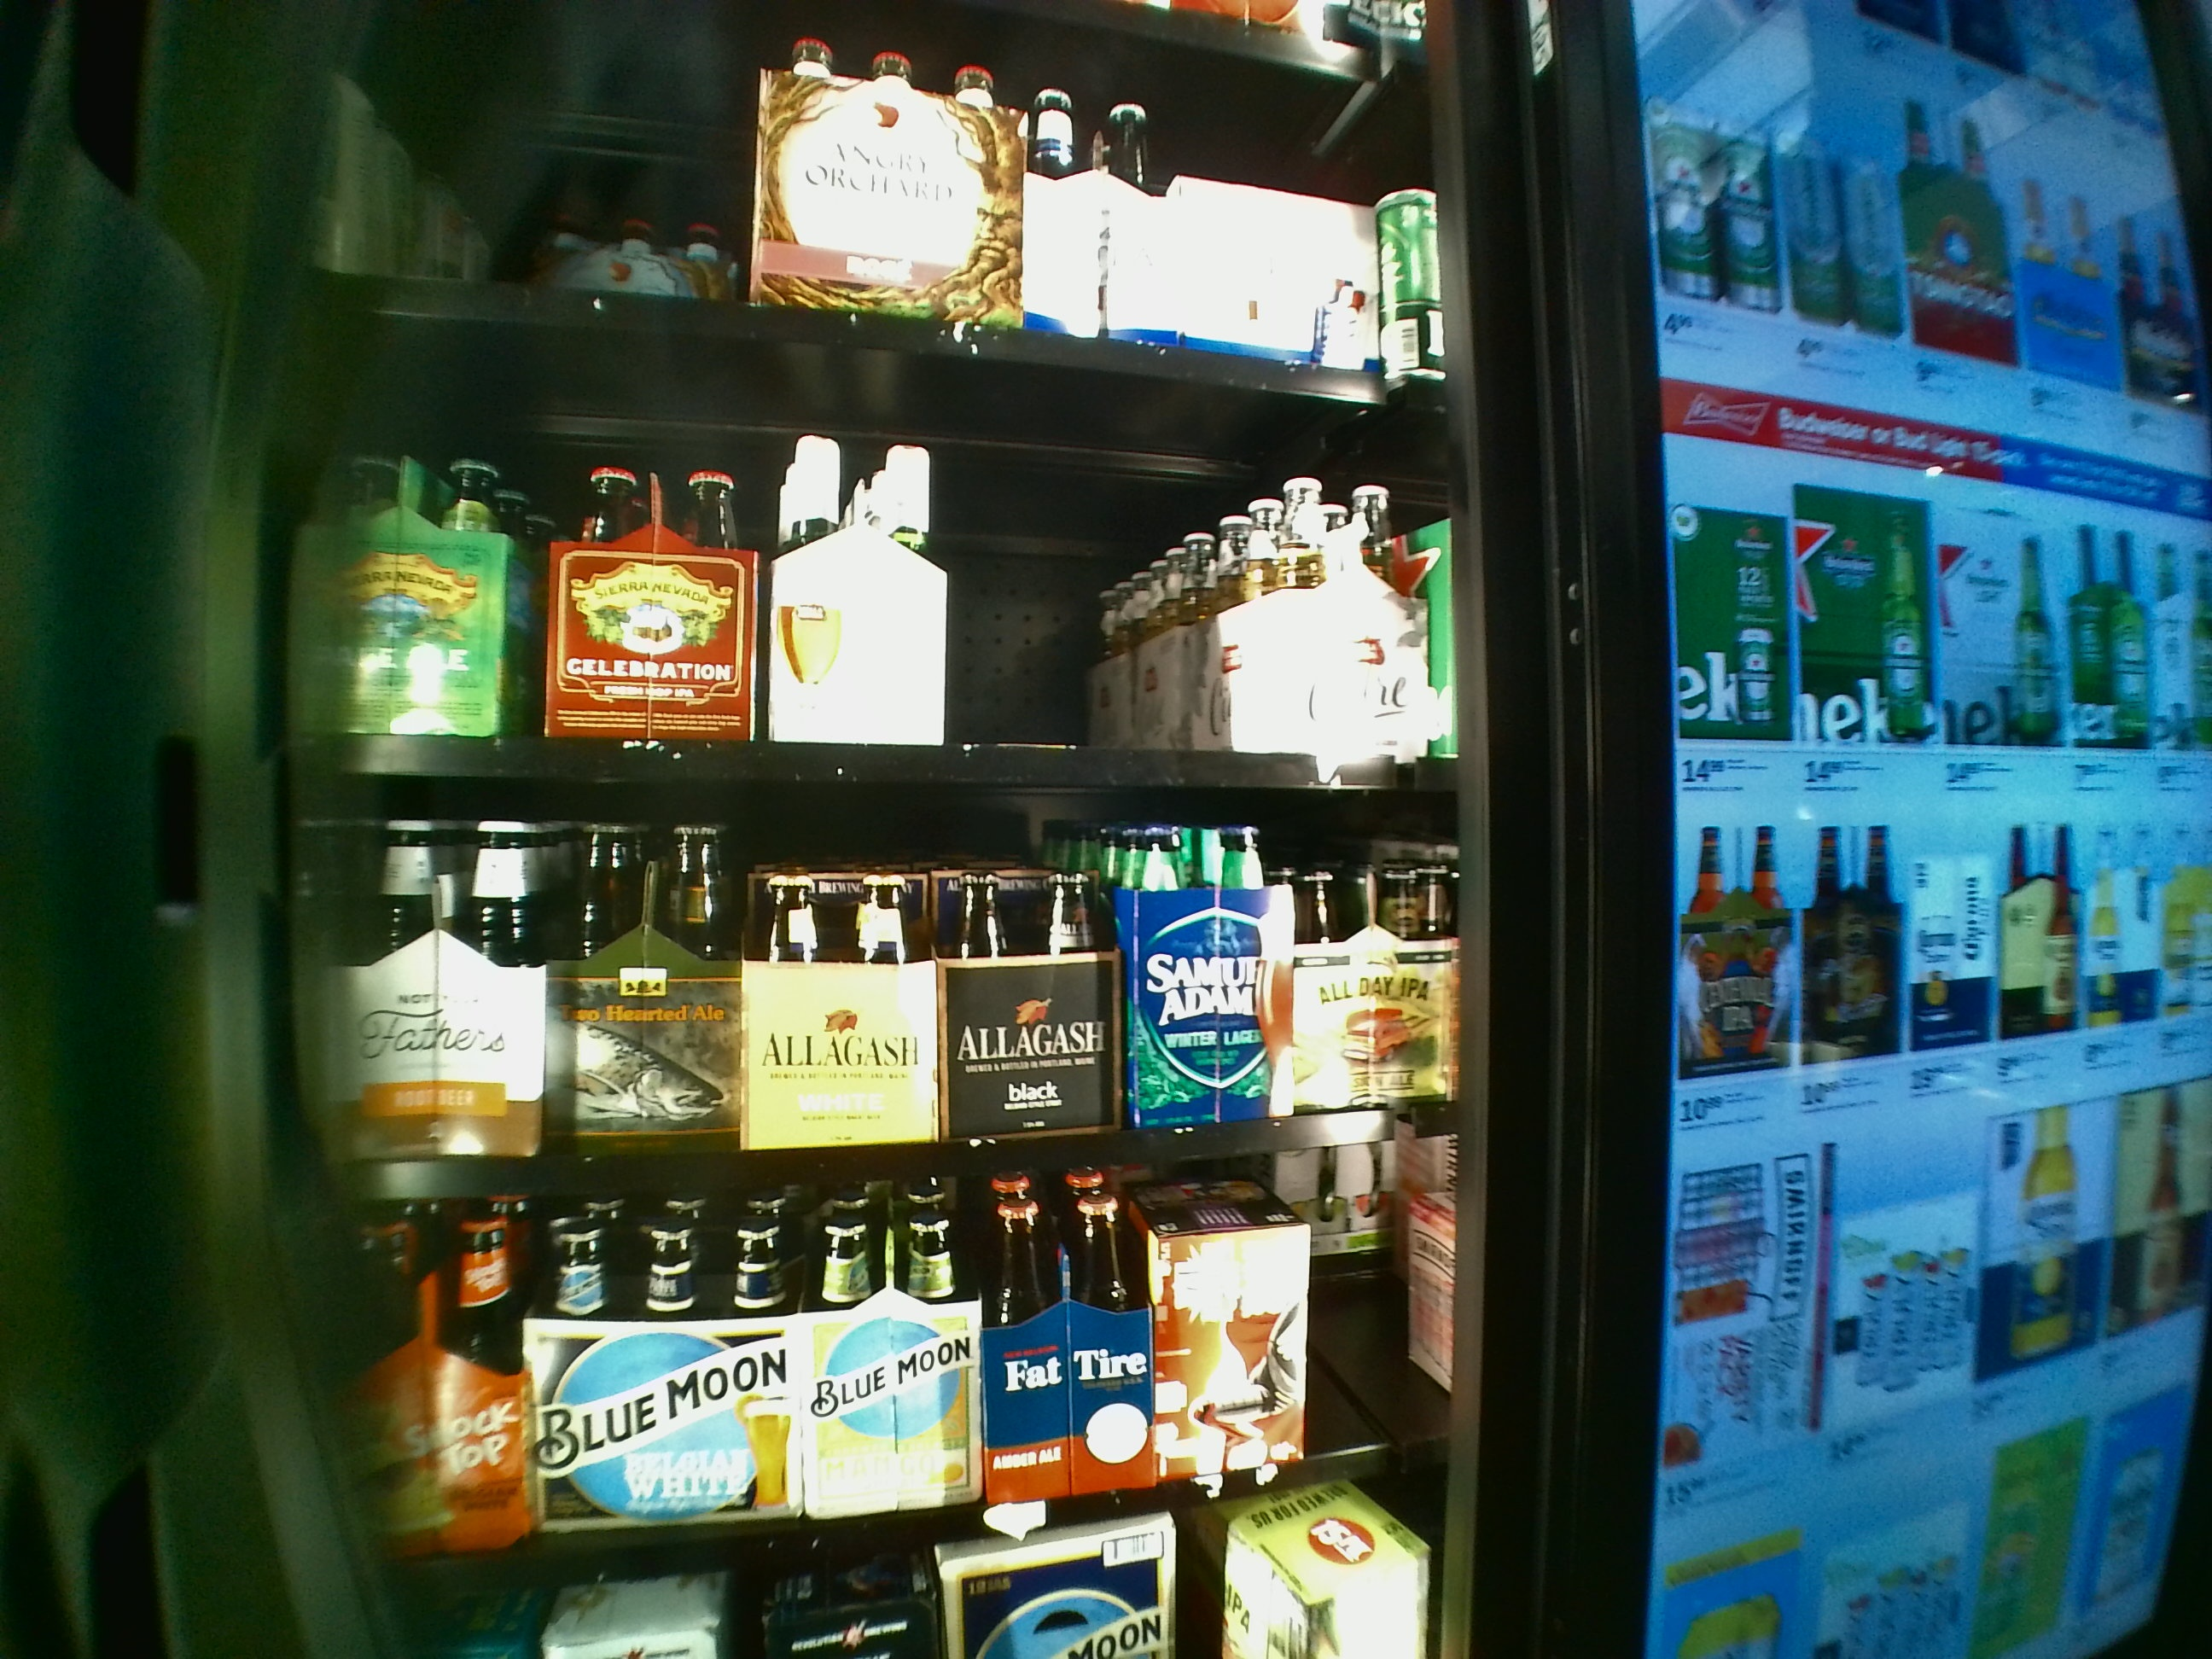shelf: (275, 317, 1451, 793), (284, 807, 1451, 1208)
